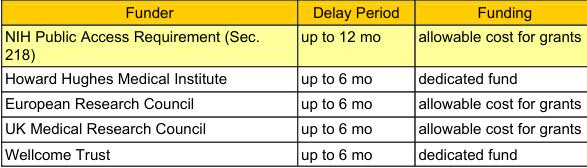table: (3, 3, 580, 161)
table column: (3, 3, 279, 161), (408, 3, 580, 161), (279, 3, 408, 161)
table column header: (3, 3, 580, 24)
table row: (3, 24, 580, 65), (3, 65, 580, 90), (3, 90, 580, 115), (3, 115, 580, 140), (3, 3, 580, 24), (3, 140, 580, 161)
